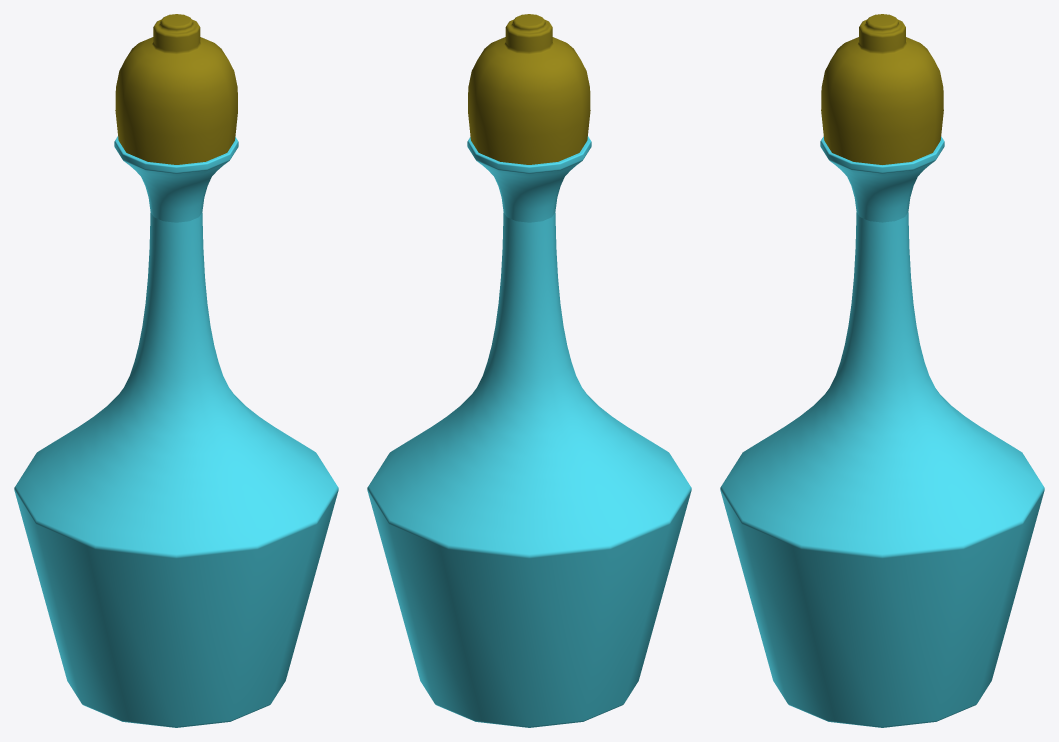
File: potion15.FBX
3 views of the same model, side by side, from view 1: azimuth 30°, elevation 25°; view 2: azimuth 150°, elevation 25°; view 3: azimuth 270°, elevation 25° (orthographic).
Parts seen in each view (by area): view 1: potion_15glass; view 2: potion_15glass; view 3: potion_15glass.
Part boxes in pixels (left/top/right/bottom): potion_15glass: left=14, top=14, right=338, bottom=727; potion_15glass: left=367, top=14, right=691, bottom=727; potion_15glass: left=720, top=14, right=1044, bottom=727.
Size of the model in its own units: 23.44 by 52.82 by 23.44.
